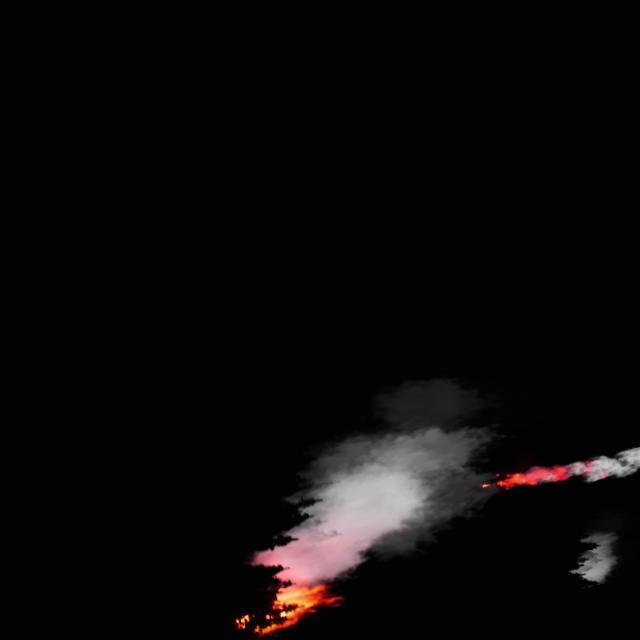fire: (222, 569, 349, 640), (493, 457, 585, 499)
smoke: (226, 367, 520, 593), (562, 522, 634, 588), (574, 429, 640, 485)
